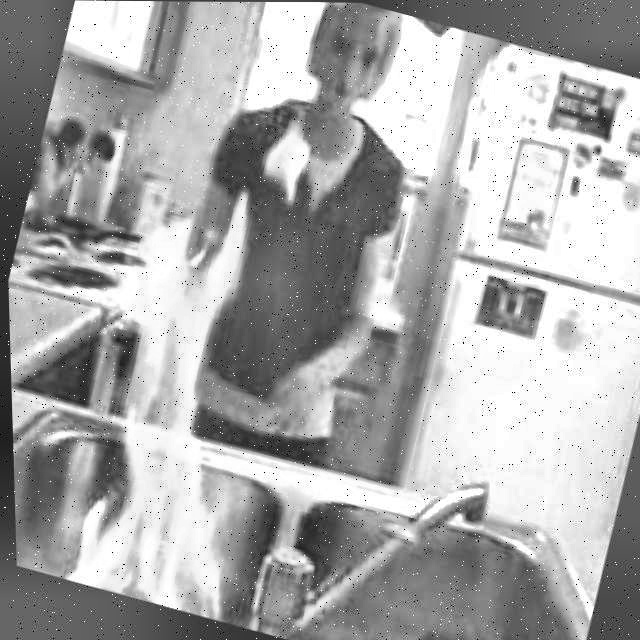Fire: (34, 169, 331, 623), (254, 122, 315, 191)
